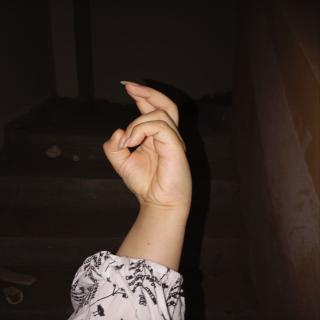ZAY: (92, 75, 208, 220)
